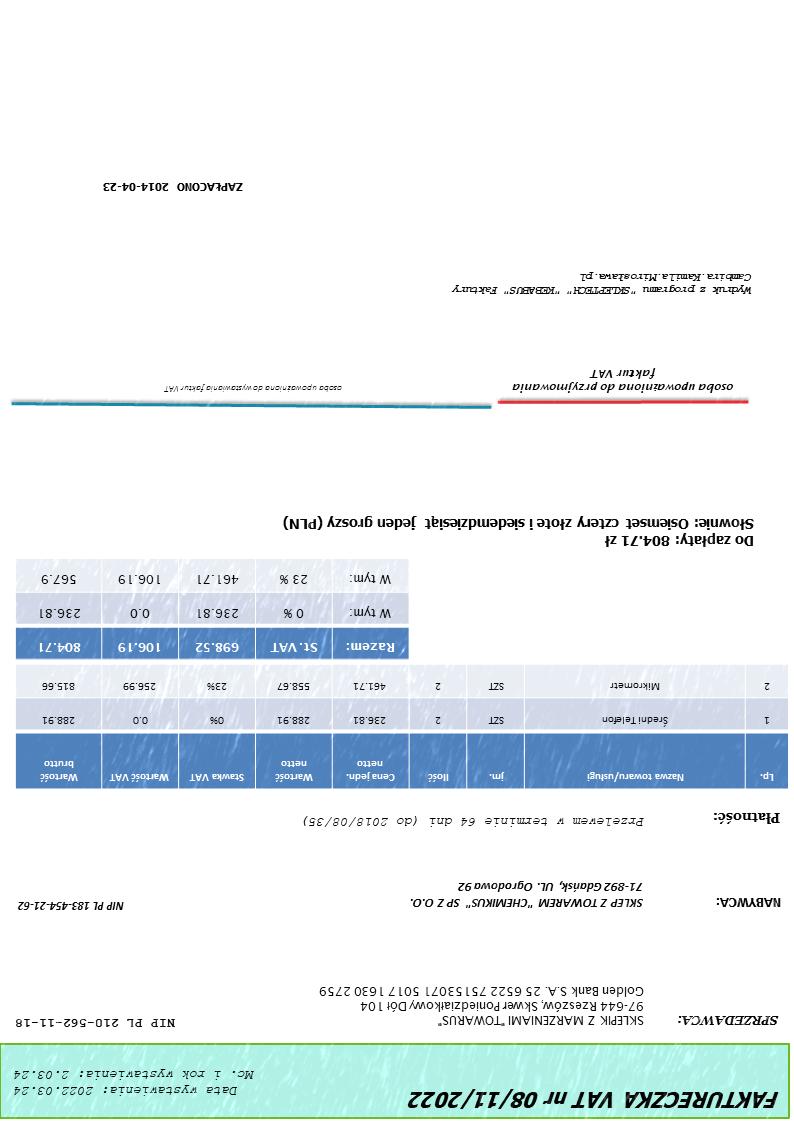Table: (15, 665, 790, 793), (14, 555, 411, 661)
TextBox: (280, 512, 758, 549), (317, 981, 647, 1029), (406, 1087, 783, 1114), (451, 268, 755, 300), (11, 1066, 257, 1100), (411, 879, 646, 911), (510, 365, 737, 396), (302, 815, 647, 830), (14, 1015, 179, 1031), (160, 381, 346, 395), (100, 180, 246, 195), (677, 1013, 782, 1030), (17, 899, 128, 914), (713, 810, 782, 828), (715, 895, 785, 912)
